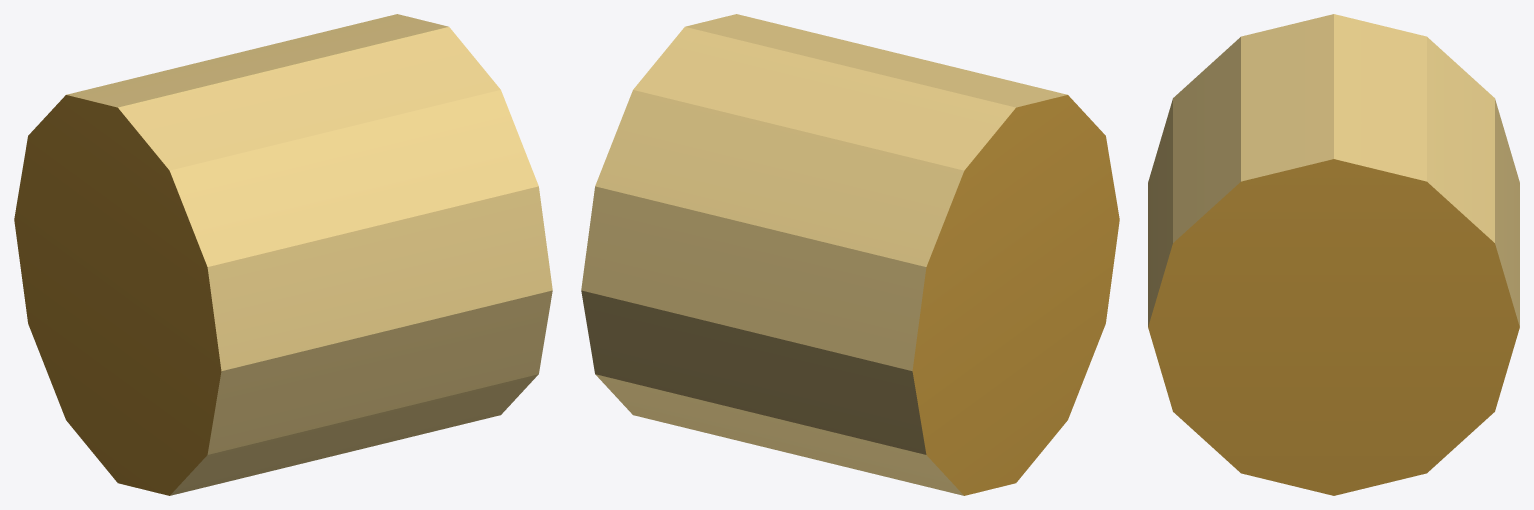
File: hay_bale.glb
The picture shows the model from 3 angles, left to right: view 1: azimuth 30°, elevation 25°; view 2: azimuth 150°, elevation 25°; view 3: azimuth 270°, elevation 25°; orthographic projection. The views are drawn at different scales.
Parts seen in each view (by area): view 1: hay_bale; view 2: hay_bale; view 3: hay_bale.
Part boxes in pixels (box(x1,y1,x2,y2)): hay_bale: box(14, 14, 552, 495); hay_bale: box(581, 14, 1119, 495); hay_bale: box(1148, 14, 1519, 495).
Bounding box in the file's own units: 1.2 × 1.3 × 1.3.
Materials: 1 (1 with a texture image).
